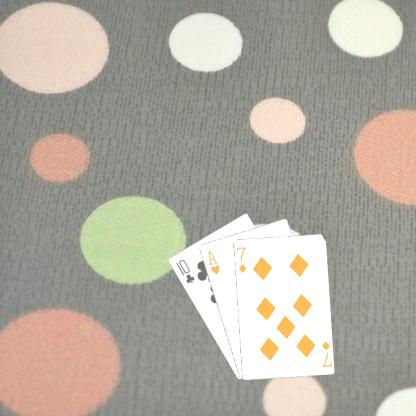10C: (172, 256, 196, 285)
7D: (318, 338, 332, 368), (235, 244, 248, 274)
AH: (205, 247, 221, 276)
